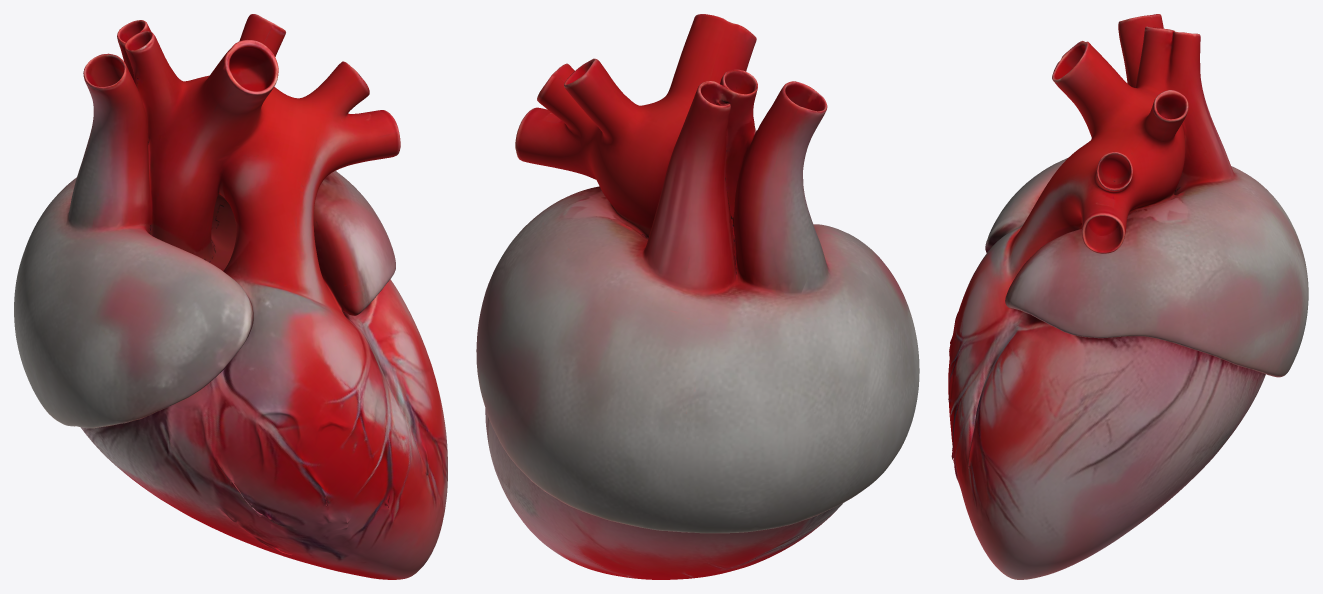
The model's file is vet_v2_path_enlarged-heart.glb.
3 renders of one model, left to right at view 1: azimuth 30°, elevation 25°; view 2: azimuth 150°, elevation 25°; view 3: azimuth 270°, elevation 25°, orthographic. The views are drawn at different scales.
Parts seen in each view (by area): view 1: model; view 2: model; view 3: model.
Part boxes in pixels (left/top/right/bottom): model: left=14, top=14, right=447, bottom=579; model: left=476, top=14, right=919, bottom=579; model: left=948, top=14, right=1308, bottom=579.
Size of the model in its own units: 1.33 by 1.9 by 1.29.
1 material, 1 textured.
